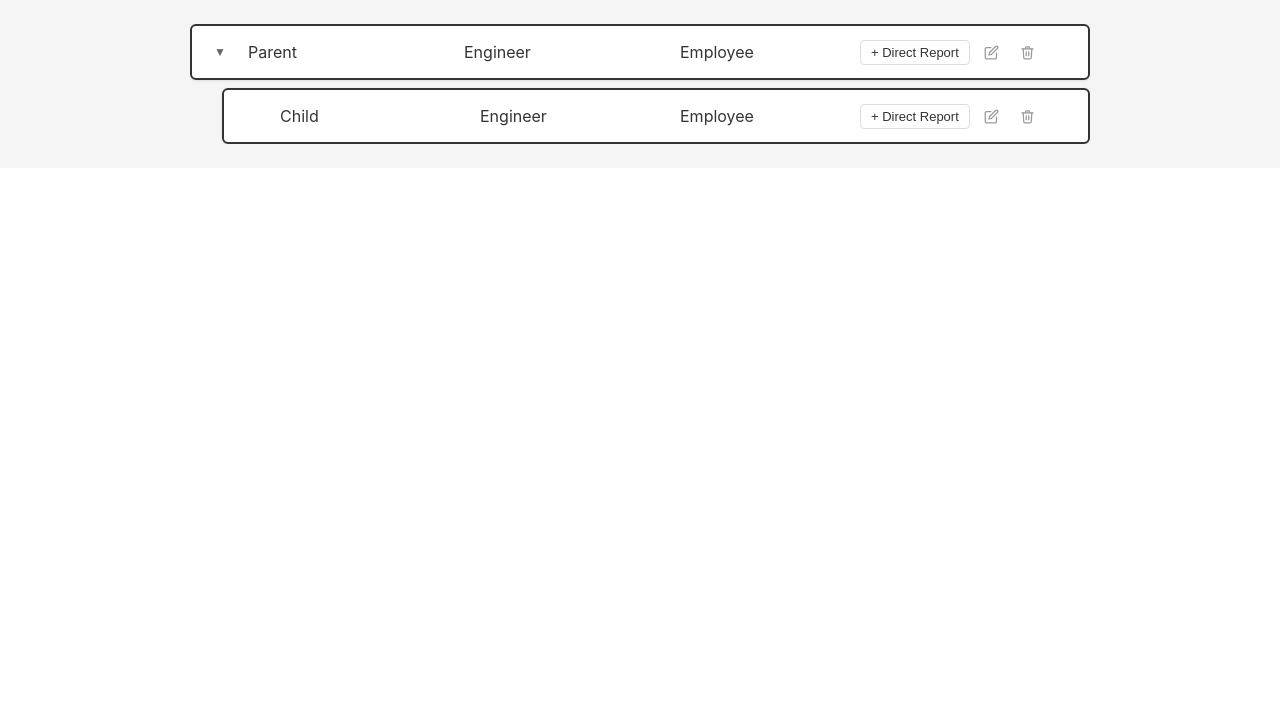
Test: ListView › Delete › shows promote option when node has children
The image size is (1280, 720).
# Click Delete on parent
Click the button with class "btn-icon-danger" in the row of "Parent" at (1028, 52), box x1=1014 y1=38 x2=1042 y2=66
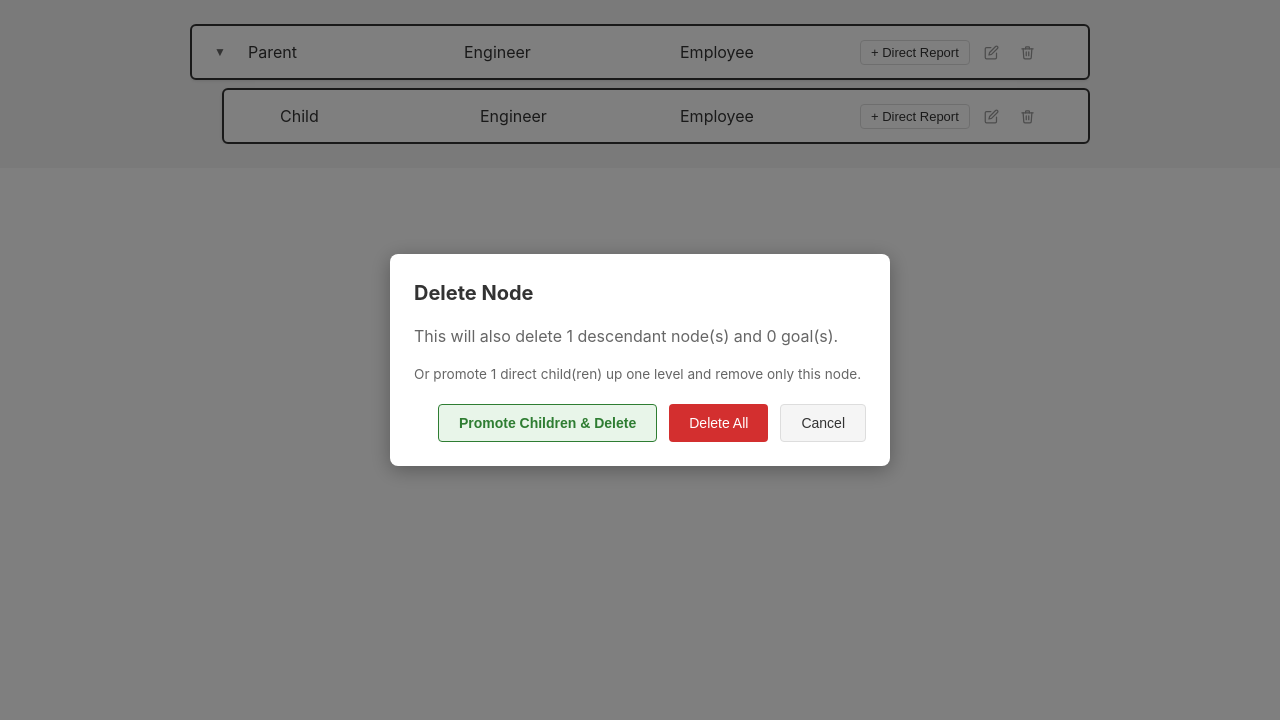
Now the text "Promote Children & Delete" is shown, box x1=438 y1=404 x2=657 y2=442
Now the text "promote 1 direct child" is shown, box x1=414 y1=366 x2=861 y2=382
